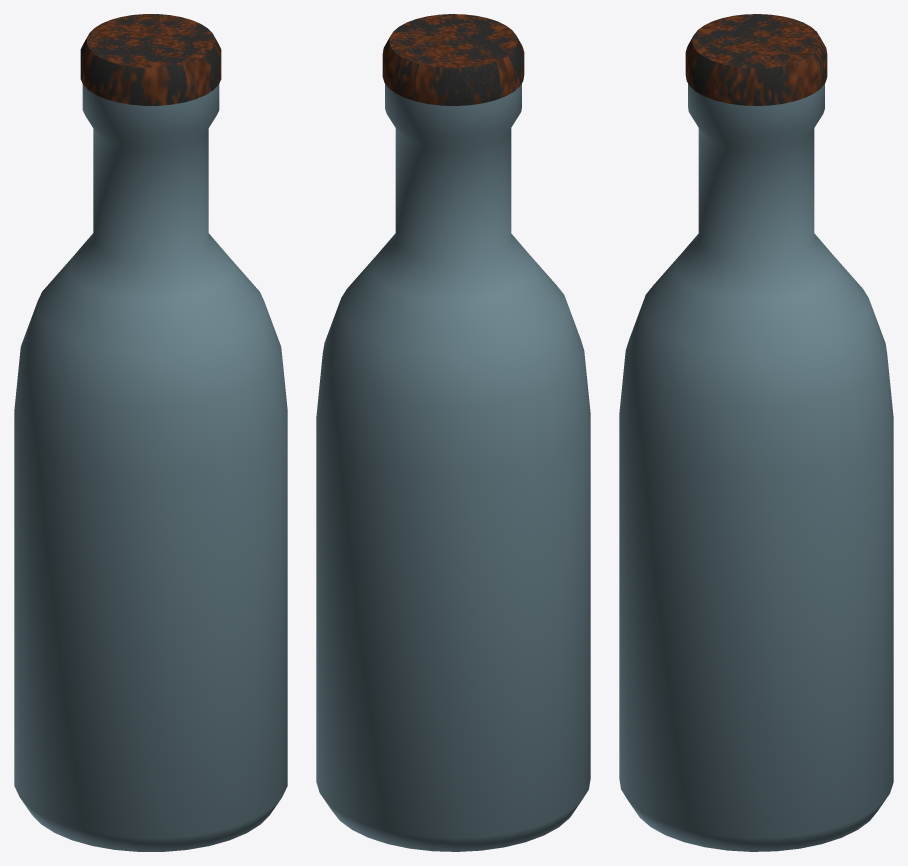
File: SM_Bottle_6e40bdb6c4.fbx
The picture shows the model from 3 angles, left to right: view 1: azimuth 30°, elevation 25°; view 2: azimuth 150°, elevation 25°; view 3: azimuth 270°, elevation 25°; orthographic projection.
Visible parts, largest first — view 1: SM_Bottle_6e40bdb6c4; view 2: SM_Bottle_6e40bdb6c4; view 3: SM_Bottle_6e40bdb6c4.
Boxes of the visible parts, box(x1,y1,x2,y2) form: SM_Bottle_6e40bdb6c4: box(14, 14, 287, 851); SM_Bottle_6e40bdb6c4: box(316, 14, 590, 851); SM_Bottle_6e40bdb6c4: box(619, 14, 893, 851).
Size of what is drawn, in the model's own units: 12.79 by 12.79 by 39.4.
Materials: 2 (1 with a texture image).
